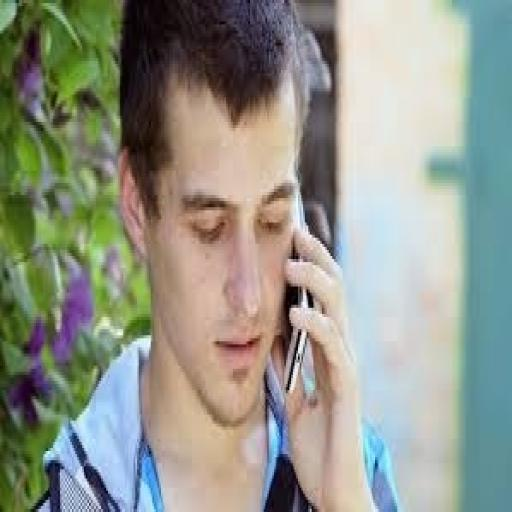calling: (31, 0, 401, 509)
